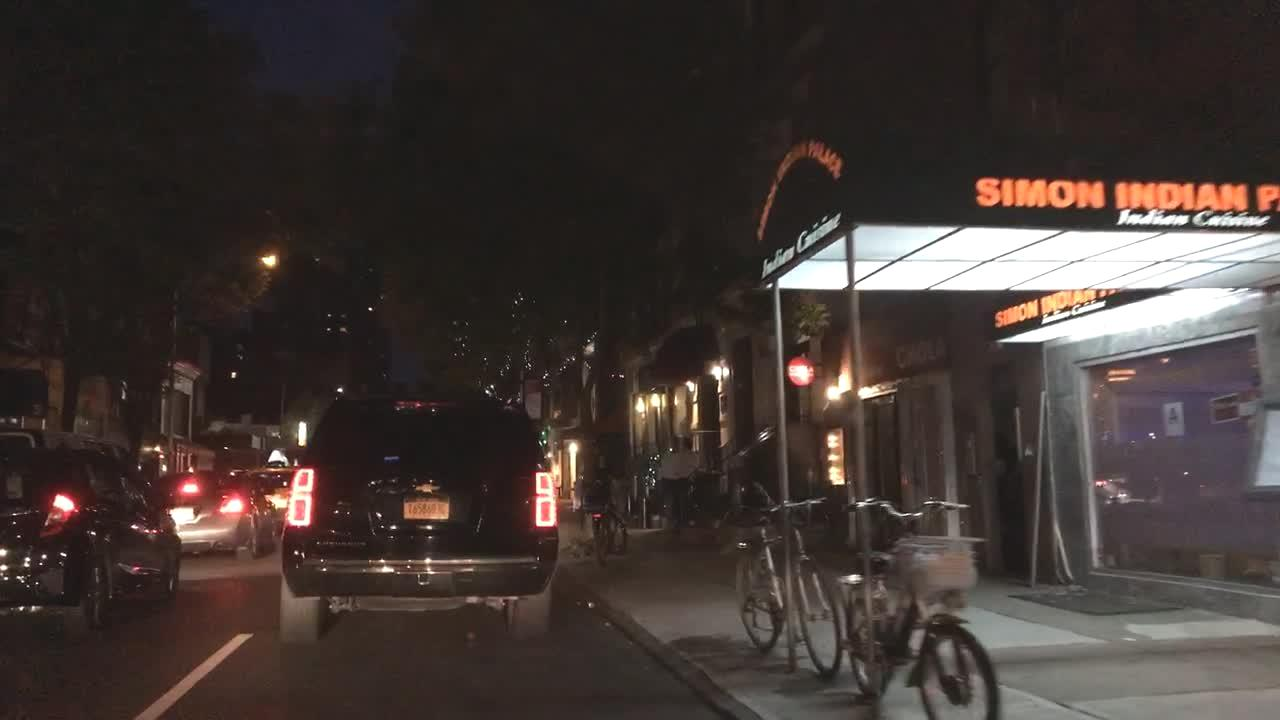chevrolet: (399, 477, 451, 497)
